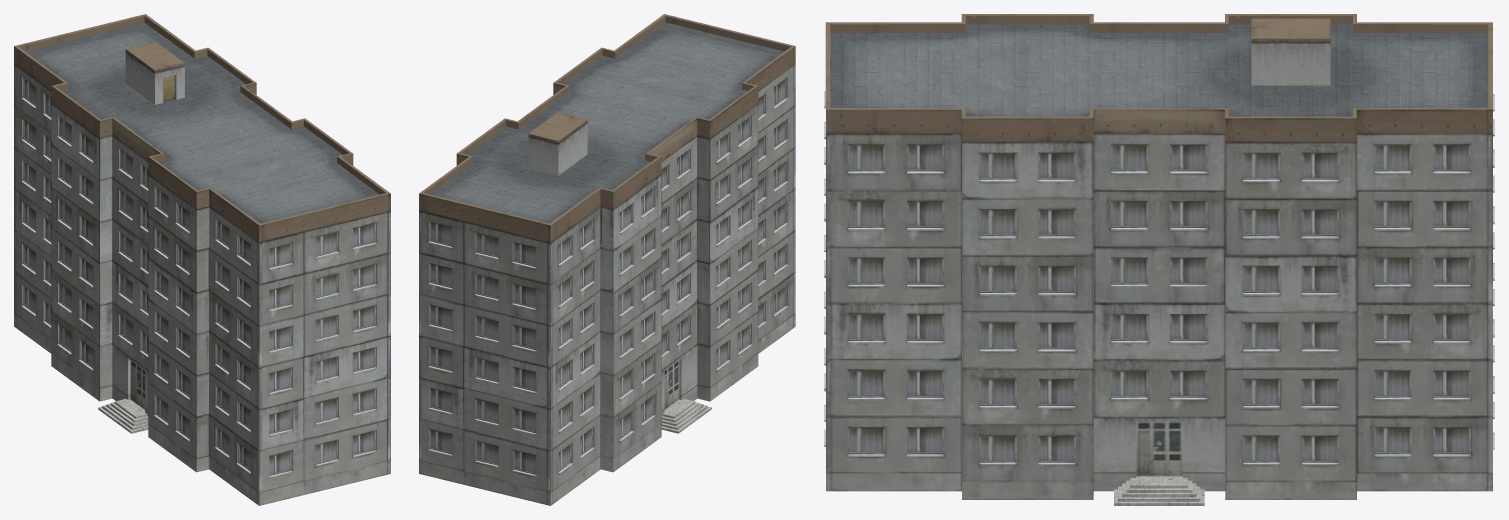
Rendered from soviet.glb.
3 renders of one model, left to right at view 1: azimuth 30°, elevation 25°; view 2: azimuth 150°, elevation 25°; view 3: azimuth 270°, elevation 25°, orthographic. The views are drawn at different scales.
Parts seen in each view (by area): view 1: BUILDING; view 2: BUILDING; view 3: BUILDING.
Part boxes in pixels (x1,y1,x2,y2): BUILDING: (14,14,390,505); BUILDING: (419,14,795,505); BUILDING: (824,14,1494,505).
Bounding box in the file's own units: 0.6832 × 1.15 × 1.66.
Materials: 1 (1 with a texture image).
